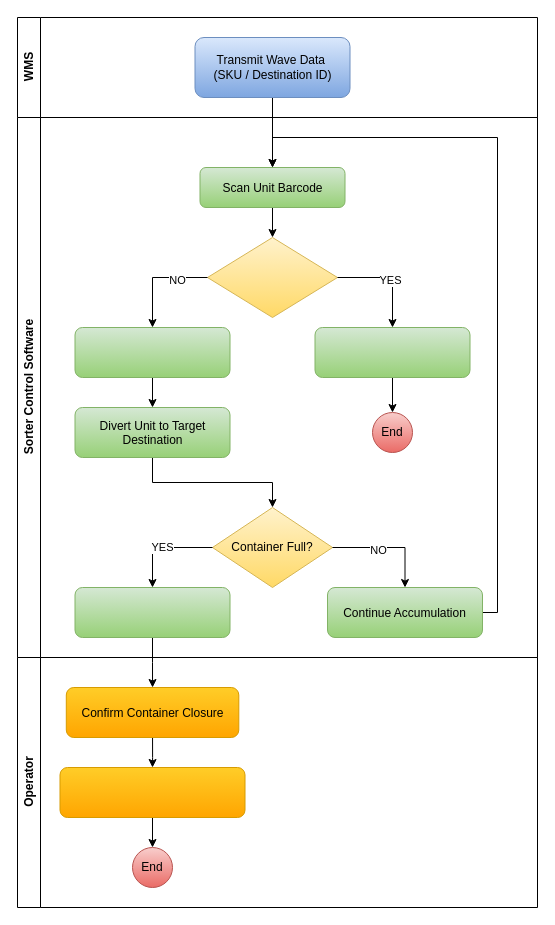
Some shapes in this 555 by 925 pixel diagram are drawn without their labels. The centre of each missing label's shape, as x and y in pixels:
Assign Sorter Destination: the point at 152,352
Read Error?: the point at 272,277
Route to Reject Chute: the point at 392,352
Send Container to Conveyor: the point at 152,792
Trigger Container Closure Signal: the point at 152,612
